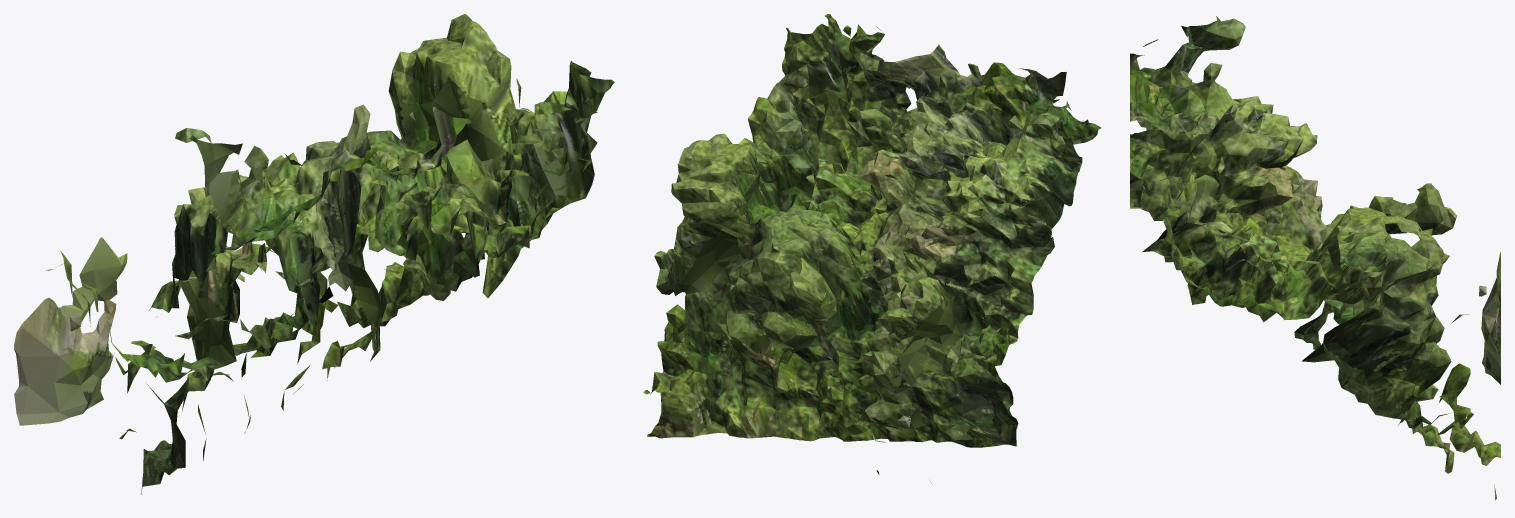
The picture shows the model from 3 angles, left to right: view 1: azimuth 30°, elevation 25°; view 2: azimuth 150°, elevation 25°; view 3: azimuth 270°, elevation 25°; orthographic projection. The views are drawn at different scales.
Bounding box in the file's own units: 26.11 × 26.11 × 26.11.
Materials: 7 (7 with a texture image).
